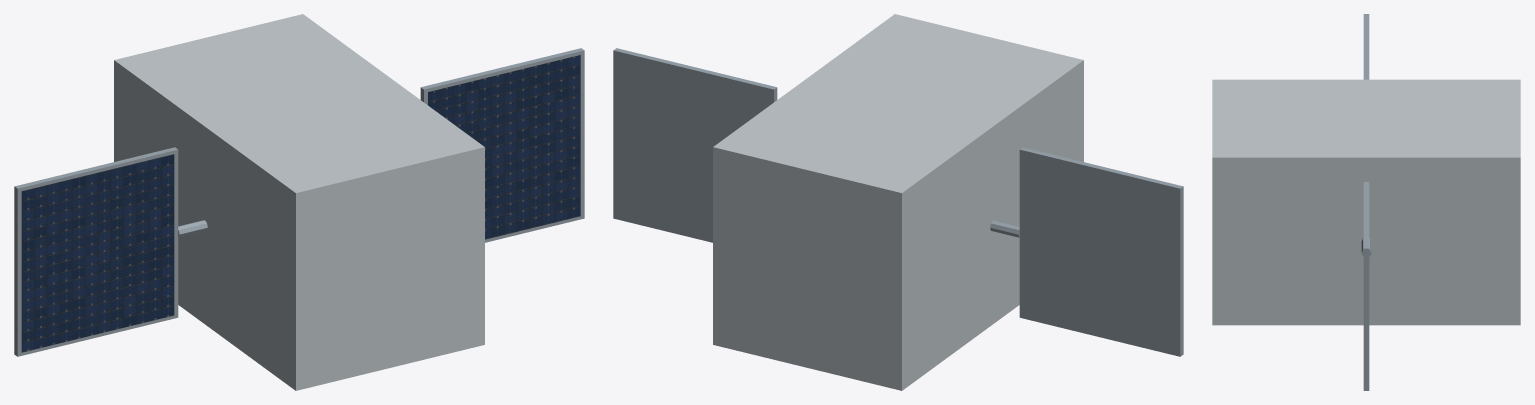
Rendered from ref-xyz-50321.glb.
The picture shows the model from 3 angles, left to right: view 1: azimuth 30°, elevation 25°; view 2: azimuth 150°, elevation 25°; view 3: azimuth 270°, elevation 25°; orthographic projection. The views are drawn at different scales.
Visible parts, largest first — view 1: Spacecraft body, Photovoltaic laminates (×2), Array frame (×2); view 2: Spacecraft body, Array frame (×2); view 3: Spacecraft body, Array frame (×2).
Part boxes in pixels (left/top/right/bottom): Spacecraft body: left=114, top=14, right=484, bottom=390; Photovoltaic laminates (×2): left=21, top=55, right=580, bottom=352; Array frame (×2): left=14, top=48, right=584, bottom=356; Spacecraft body: left=713, top=14, right=1083, bottom=390; Array frame (×2): left=613, top=48, right=1183, bottom=356; Spacecraft body: left=1212, top=79, right=1520, bottom=325; Array frame (×2): left=1363, top=14, right=1369, bottom=390.
Size of the model in its own units: 9 by 3 by 5.
Materials: 3 (1 with a texture image).
